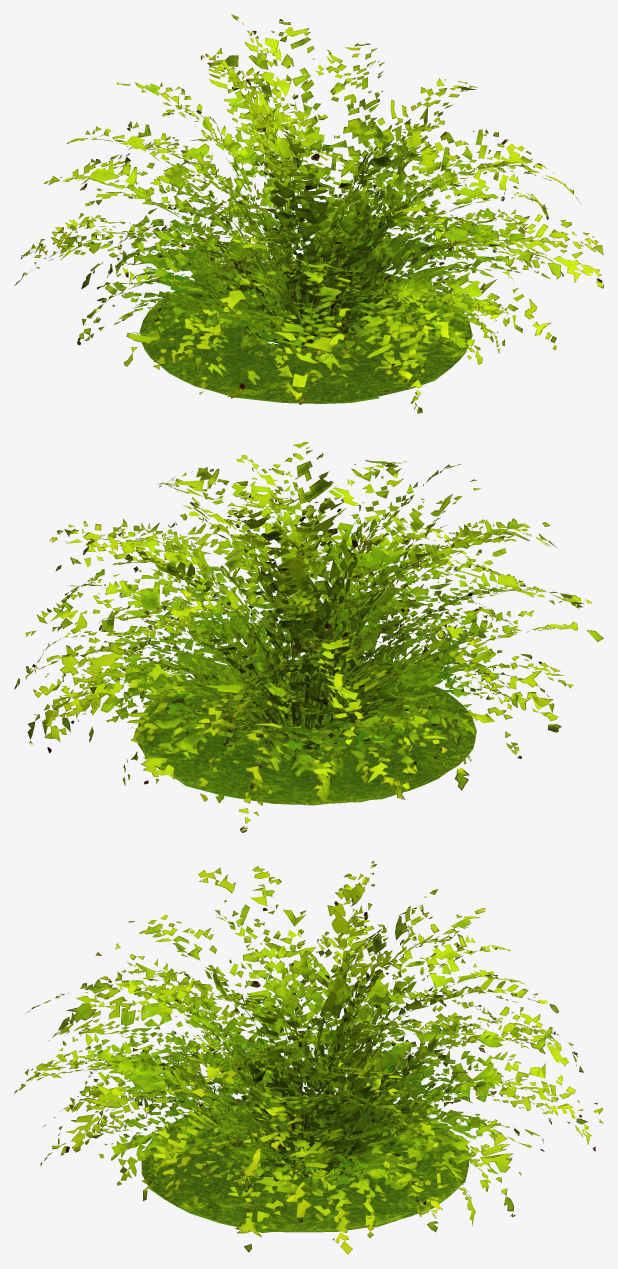
Rendered from veg_ground_fern_01.glb.
3 renders of one model, top to bottom at view 1: azimuth 30°, elevation 25°; view 2: azimuth 150°, elevation 25°; view 3: azimuth 270°, elevation 25°, orthographic. The views are drawn at different scales.
Parts seen in each view (by area): view 1: veg_ground_fern_01; view 2: veg_ground_fern_01; view 3: veg_ground_fern_01.
Part boxes in pixels (left/top/right/bottom): veg_ground_fern_01: left=14, top=14, right=603, bottom=413; veg_ground_fern_01: left=14, top=442, right=603, bottom=832; veg_ground_fern_01: left=14, top=861, right=603, bottom=1254.
Bounding box in the file's own units: 0.6112 × 0.3526 × 0.65.
1 material, 1 textured.
